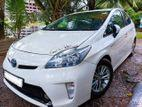car: (3, 8, 137, 107)
